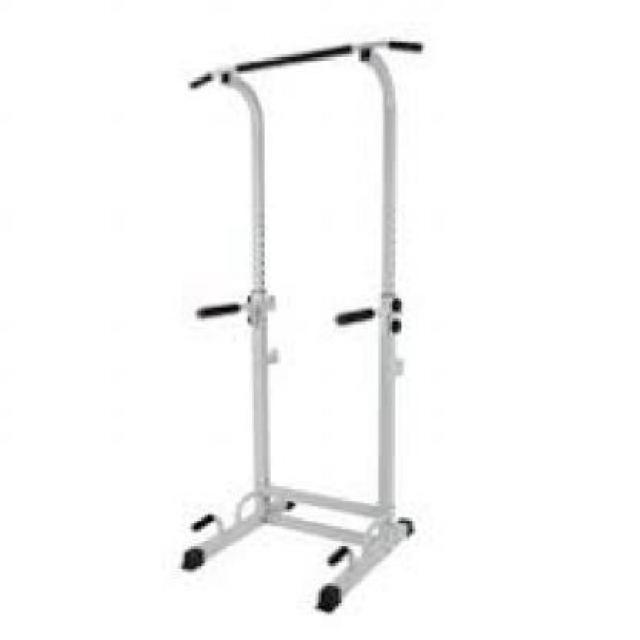chinning dipping: (180, 38, 426, 612)
